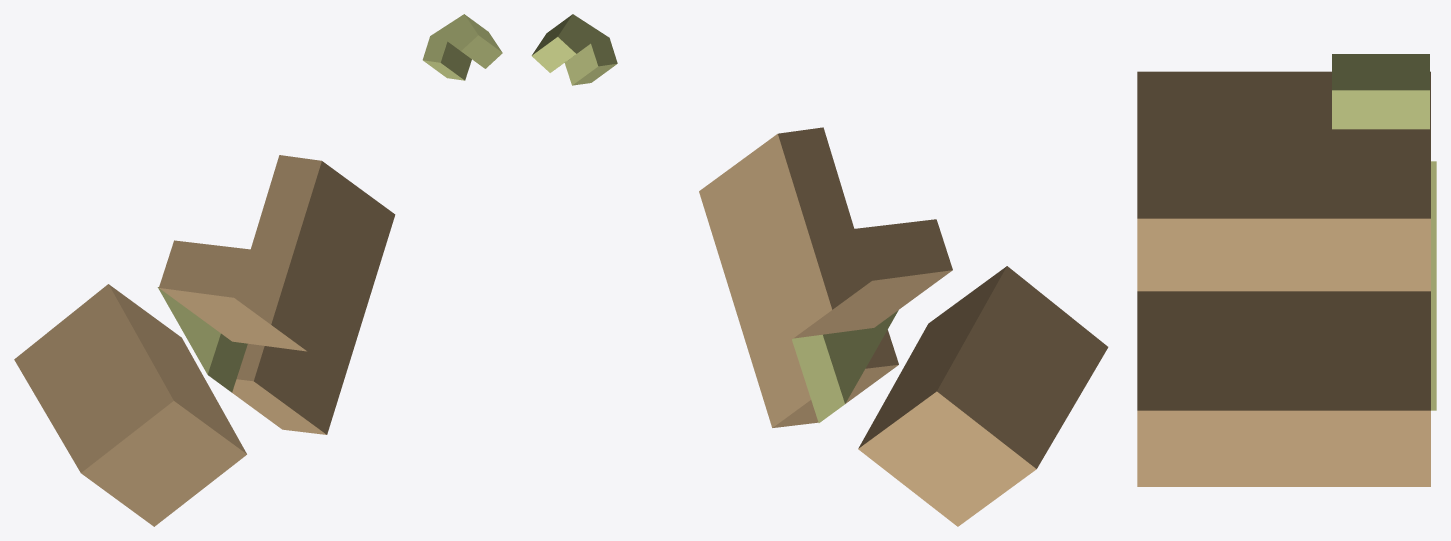
3 views of the same model, side by side, from view 1: azimuth 30°, elevation 25°; view 2: azimuth 150°, elevation 25°; view 3: azimuth 270°, elevation 25° (orthographic). The views are drawn at different scales.
Visible parts, largest first — view 1: 0_0_1_2_0_0_3; view 2: 0_0_1_2_0_0_3; view 3: 0_0_1_2_0_0_3.
Part boxes in pixels (left/top/right/bottom): 0_0_1_2_0_0_3: left=14, top=14, right=502, bottom=526; 0_0_1_2_0_0_3: left=531, top=14, right=1108, bottom=526; 0_0_1_2_0_0_3: left=1137, top=54, right=1436, bottom=486.
Bounding box in the file's own units: 98.53 × 74.25 × 27.5.
